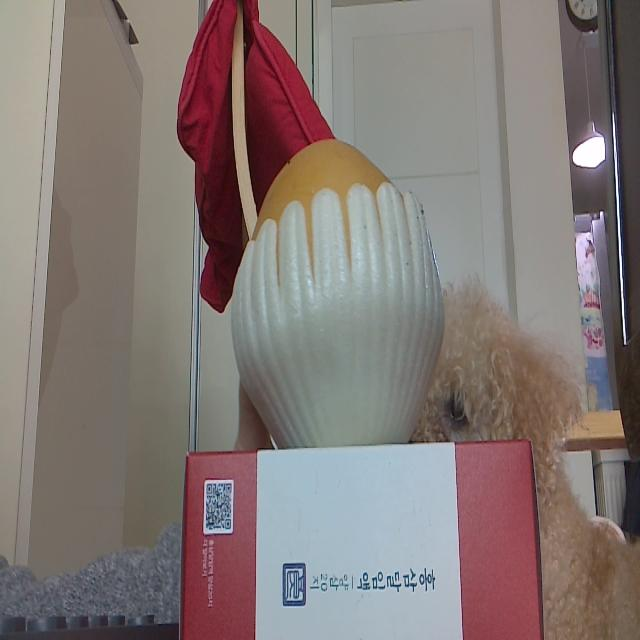pear: (239, 130, 442, 447)
